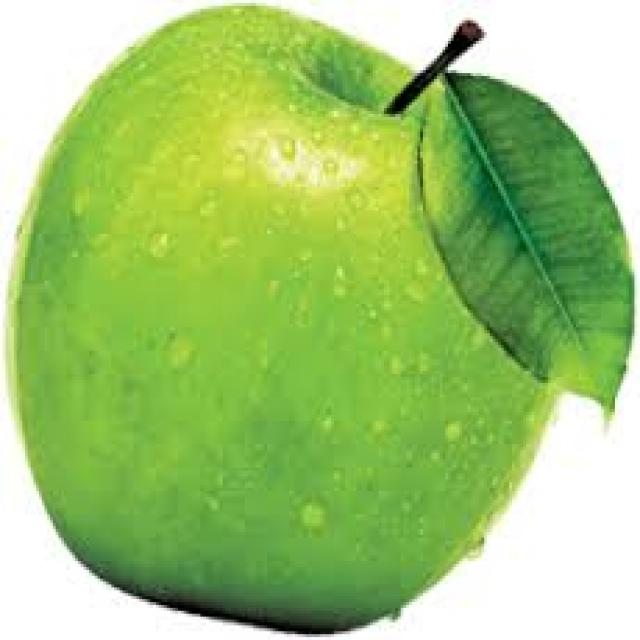organic waste: (11, 3, 554, 631), (417, 67, 632, 427)
